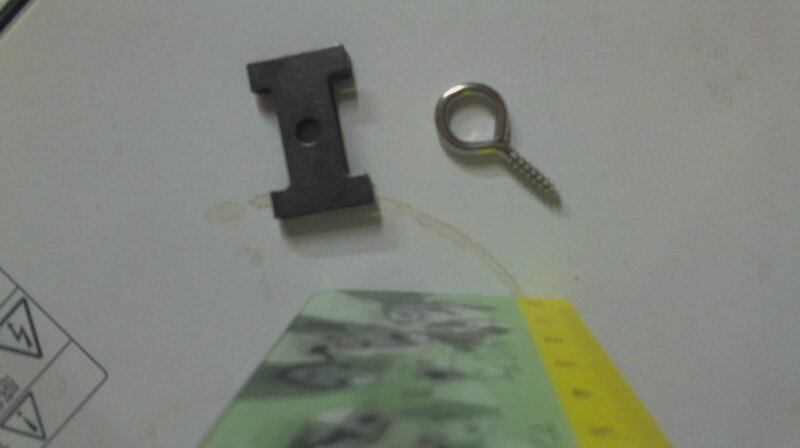O001: (430, 78, 569, 215)
O002: (243, 43, 382, 219)
